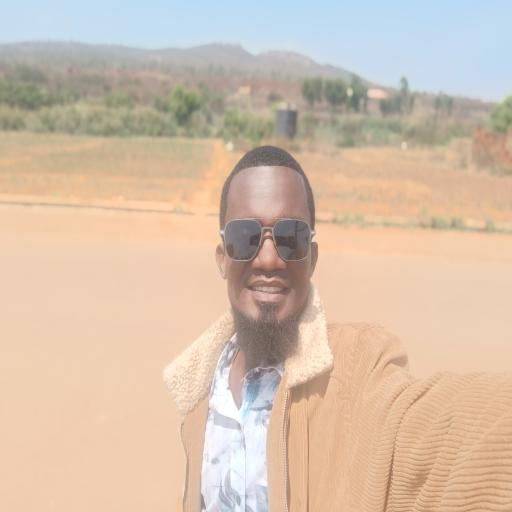MATTHIEU: (216, 144, 324, 364)
